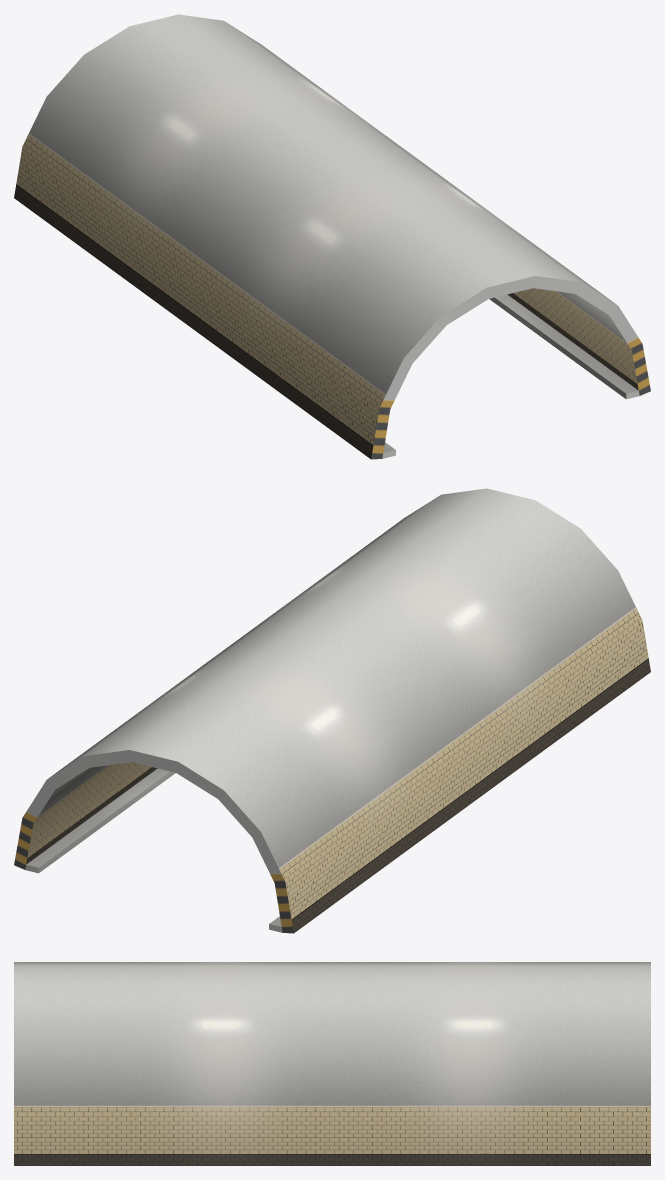
Rendered from tunnelWall.obj.
The picture shows the model from 3 angles, top to bottom: view 1: azimuth 30°, elevation 25°; view 2: azimuth 150°, elevation 25°; view 3: azimuth 270°, elevation 25°; orthographic projection. The views are drawn at different scales.
Visible parts, largest first — view 1: tunnelWall; view 2: tunnelWall; view 3: tunnelWall.
Boxes of the visible parts, box(x1,y1,x2,y2) form: tunnelWall: box(14, 14, 650, 459); tunnelWall: box(14, 488, 650, 933); tunnelWall: box(14, 962, 650, 1165).
Size of the model in its own units: 5074 by 2525 by 11218.
